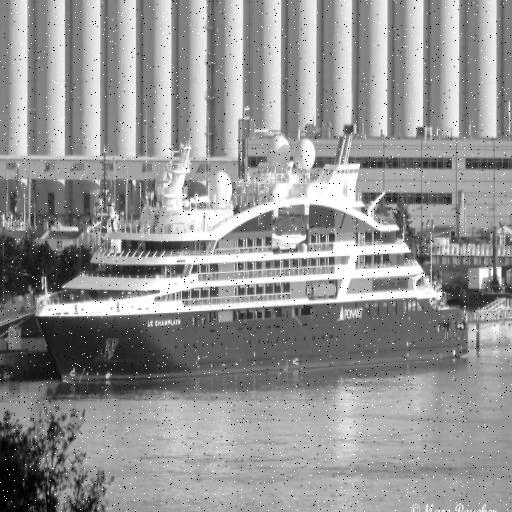cruises: (29, 117, 481, 387)
